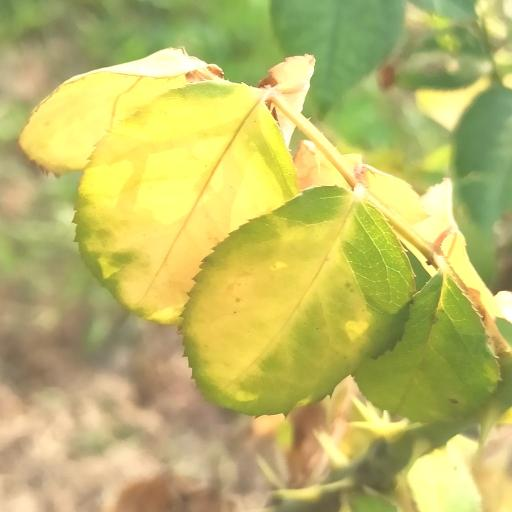healthy_leaf: (355, 273, 499, 422)
red_mite: (74, 81, 297, 324), (182, 186, 414, 414), (20, 48, 222, 175)
thrip: (259, 53, 315, 111), (268, 104, 294, 146)
